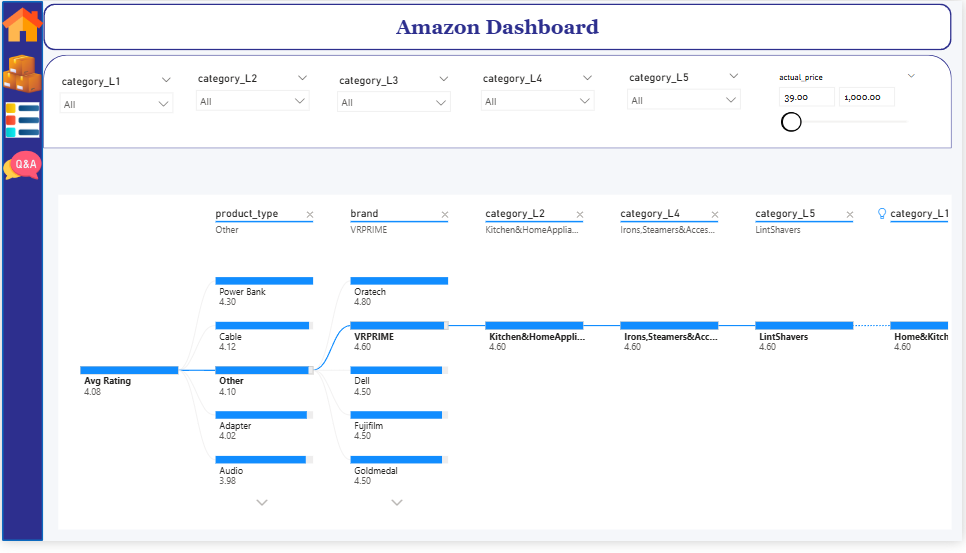

What the dashboard file says about the page in this screenshot:
{"tool":"powerbi","page":{"name":"CATEGORY DRILL ANALYSIS","canvas":[1280,720],"ordinal":2},"visuals":[{"type":"shape","box":[0,0,55,720],"z":0},{"type":"image","box":[0,0,55,62.5],"z":1000},{"type":"image","box":[0,71.2,55,51.2],"z":2000},{"type":"image","box":[5,135,45,47.5],"z":3000},{"type":"image","box":[0,193.8,55,51.2],"z":4000},{"type":"shape","box":[55,2.5,1211.2,62.5],"z":5000},{"type":"group","id":"g1","title":"Group 1","box":[55,71.5,1211.2,125],"z":6000},{"type":"shape","box":[55,71.5,1211.2,125],"z":6000,"group":"g1"},{"type":"slicer","fields":{"Values":["fact_sales.category_L1"]},"box":[66.2,93.1,171.2,78.7],"z":7000,"group":"g1"},{"type":"decompositionTreeVisual","fields":{"Analyze":["fact_sales.Avg Rating"],"ExplainBy":["fact_sales.product_type","fact_sales.brand","fact_sales.category_L2","fact_sales.category_L4","fact_sales.category_L5","fact_sales.category_L1","fact_sales.category_L3"]},"box":[75,258.8,1191.2,446.2],"z":7000},{"type":"slicer","fields":{"Values":["fact_sales.category_L2"]},"box":[247.5,90,171.2,89.5],"z":8000,"group":"g1"},{"type":"slicer","fields":{"Values":["fact_sales.category_L3"]},"box":[436.2,91.6,171.2,72.5],"z":9000,"group":"g1"},{"type":"slicer","fields":{"Values":["fact_sales.category_L4"]},"box":[628.8,90,171.2,74.1],"z":10000,"group":"g1"},{"type":"slicer","fields":{"Values":["fact_sales.category_L5"]},"box":[822.5,88.5,171.2,88],"z":11000,"group":"g1"},{"type":"slicer","fields":{"Values":["fact_sales.actual_price"]},"box":[1023.8,89,206.2,96.2],"z":12000,"group":"g1"}]}

Visuals, with their boxes on the page's 1280x720 design canvas (x1, y1, x2, y2). These are canvas units, not pixel positions in the 966x553 screenshot, which may show the page scaled, cropped or inside an application window:
shape: <box>0,0,55,720</box>
image: <box>0,0,55,62</box>
image: <box>0,71,55,122</box>
image: <box>5,135,50,182</box>
image: <box>0,194,55,245</box>
shape: <box>55,2,1266,65</box>
"Group 1" group: <box>55,72,1266,196</box>
shape: <box>55,72,1266,196</box>
slicer - fact_sales.category_L1: <box>66,93,237,172</box>
decompositionTreeVisual - fact_sales.Avg Rating x fact_sales.product_type: <box>75,259,1266,705</box>
slicer - fact_sales.category_L2: <box>248,90,419,180</box>
slicer - fact_sales.category_L3: <box>436,92,607,164</box>
slicer - fact_sales.category_L4: <box>629,90,800,164</box>
slicer - fact_sales.category_L5: <box>822,88,994,176</box>
slicer - fact_sales.actual_price: <box>1024,89,1230,185</box>
